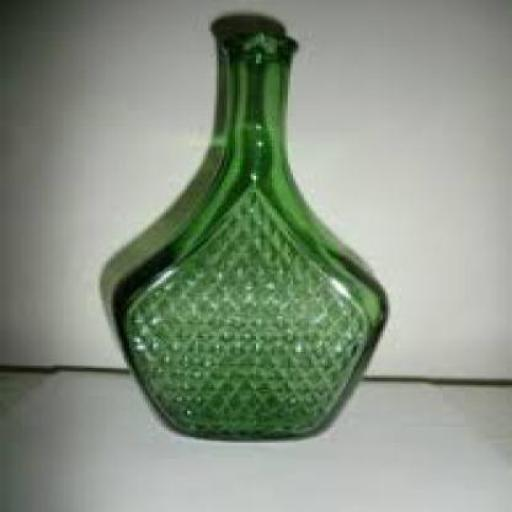glass: (111, 28, 385, 441)
